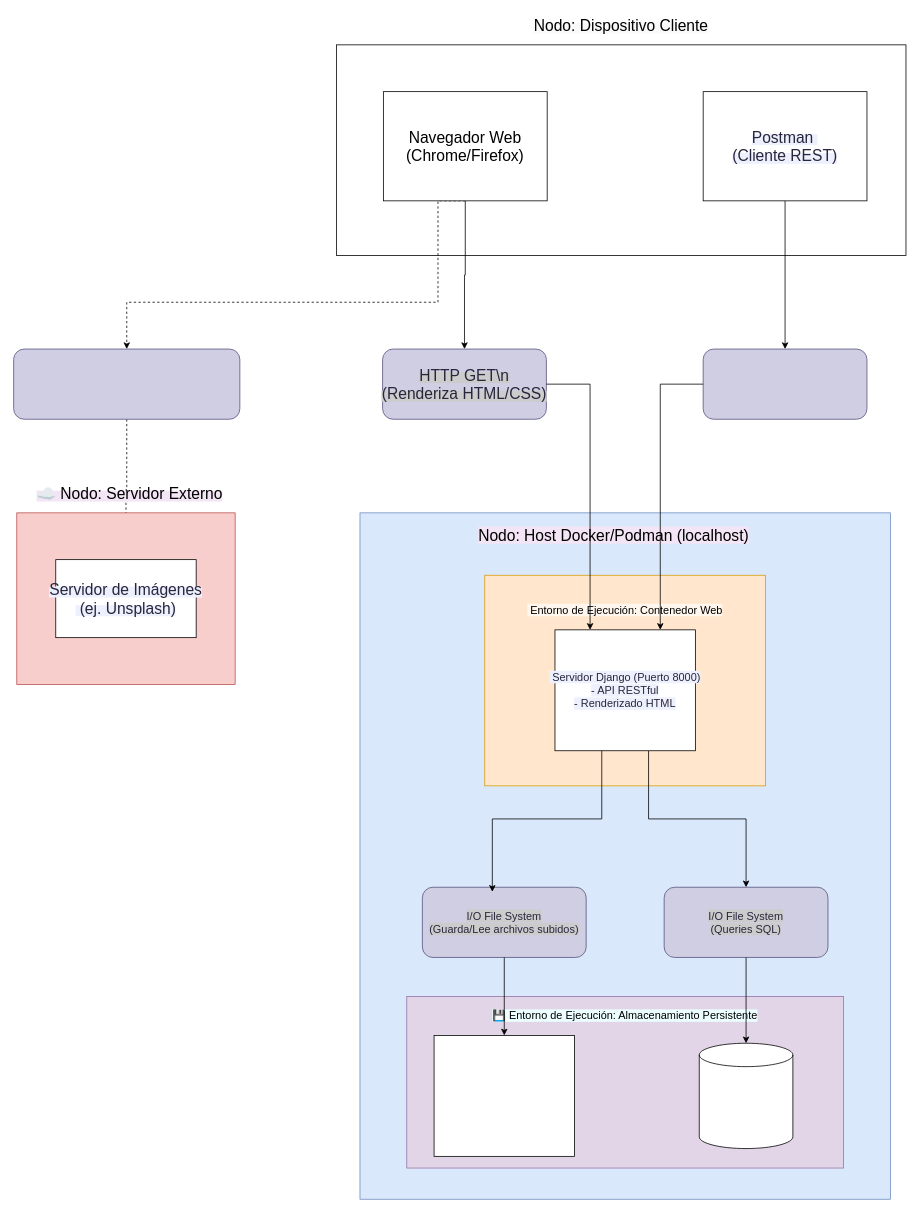
Some shapes in this 920 by 1213 pixel diagram are drawn without their labels. The shapes that lost their labels are listed below. From the top down, each one's box as (x1, y1, x2, y2) in pixels, then its label:
(13, 348, 240, 419): HTTP GET\n (Lee imagen por atributo src))
(702, 348, 867, 419): HTTP GET/POST/PUT/DELETE\n( Envía/Recibe JSON)
(433, 1035, 574, 1156): Volumen: Archivos Media locales (/media/)
(698, 1042, 793, 1149): Base de Datos : db.sqlite3
